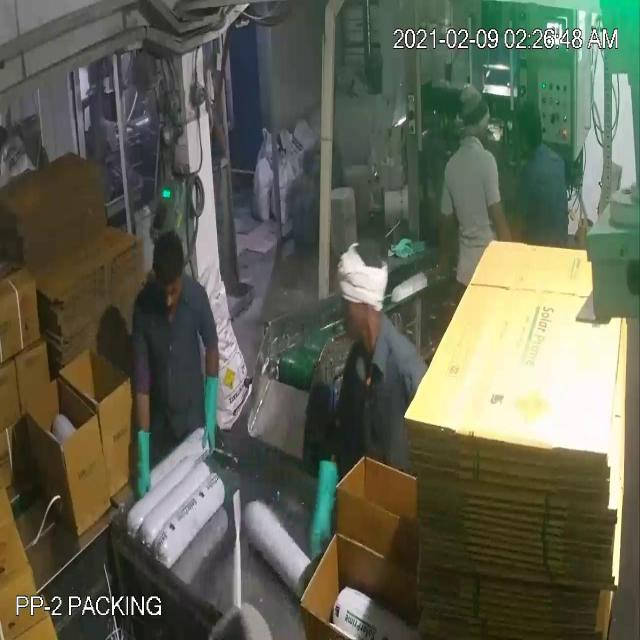gloves: (309, 439, 345, 572), (127, 414, 162, 518), (196, 359, 226, 470)
no-gloves: (434, 205, 456, 282)
